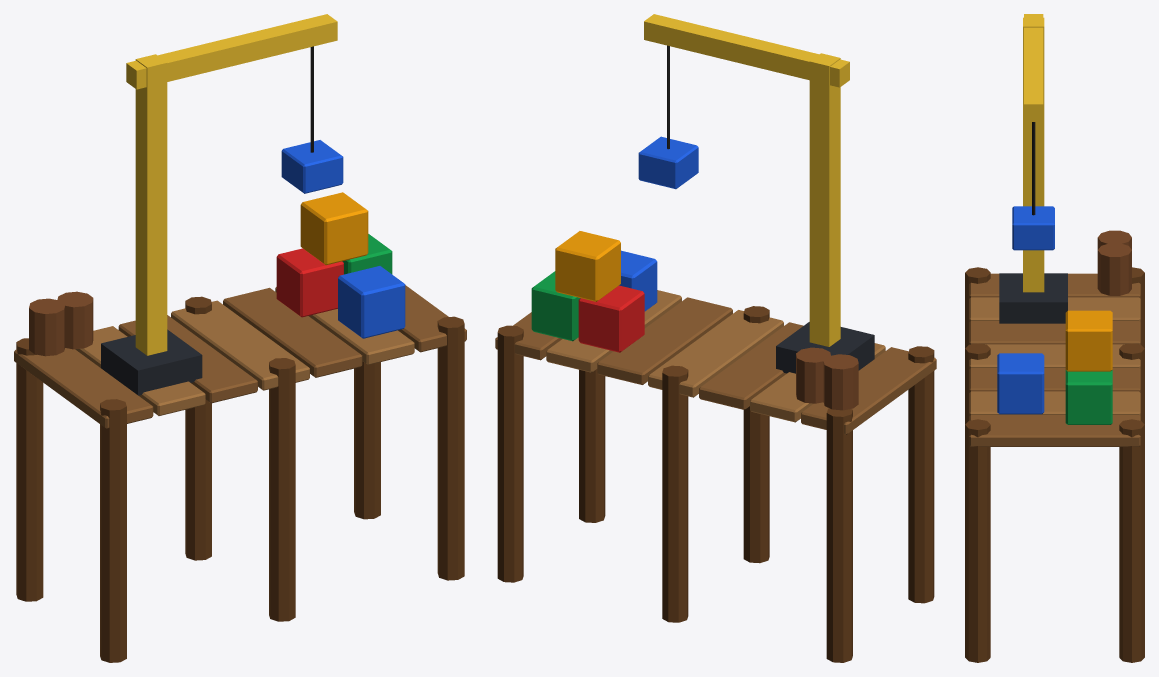
File: fe-dock-DPEj6sps.glb
3 views of the same model, side by side, from view 1: azimuth 30°, elevation 25°; view 2: azimuth 150°, elevation 25°; view 3: azimuth 270°, elevation 25° (orthographic). The views are drawn at different scales.
Parts seen in each view (by area): view 1: Cube; view 2: Cube; view 3: Cube.
Boxes of the visible parts, bbox=[...] form: Cube: bbox=[14, 14, 466, 662]; Cube: bbox=[495, 14, 936, 662]; Cube: bbox=[965, 14, 1144, 662].
Size of the model in its own units: 0.9 by 1.33 by 0.4199.
